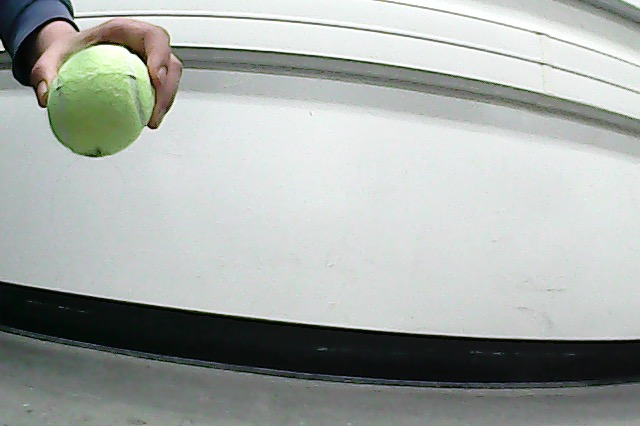ball: (47, 46, 155, 159)
